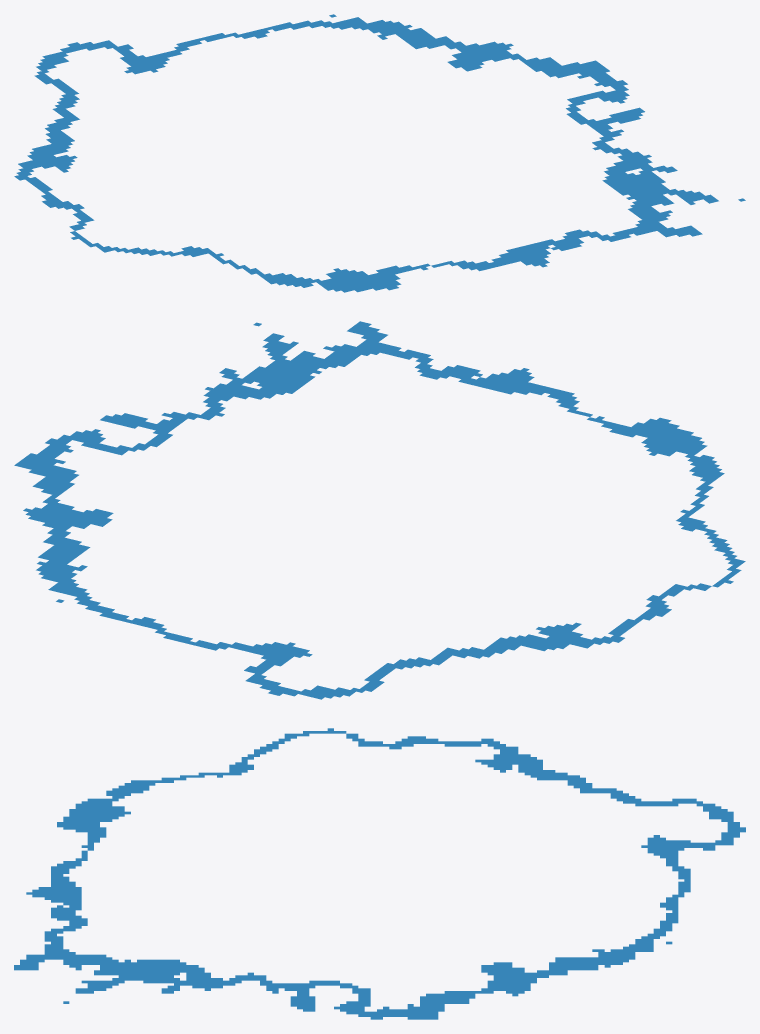
The model's file is Isl-rocky1-PlaceForWaterObjects.fbx.
3 renders of one model, top to bottom at view 1: azimuth 30°, elevation 25°; view 2: azimuth 150°, elevation 25°; view 3: azimuth 270°, elevation 25°, orthographic. The views are drawn at different scales.
Parts seen in each view (by area): view 1: Isl-rocky1-PlaceForWaterObjects; view 2: Isl-rocky1-PlaceForWaterObjects; view 3: Isl-rocky1-PlaceForWaterObjects.
Boxes of the visible parts, left/top/right/bottom form: Isl-rocky1-PlaceForWaterObjects: left=14, top=14, right=745, bottom=292; Isl-rocky1-PlaceForWaterObjects: left=14, top=321, right=745, bottom=699; Isl-rocky1-PlaceForWaterObjects: left=14, top=728, right=745, bottom=1019.
Bounding box in the file's own units: 112 × 0 × 119.
